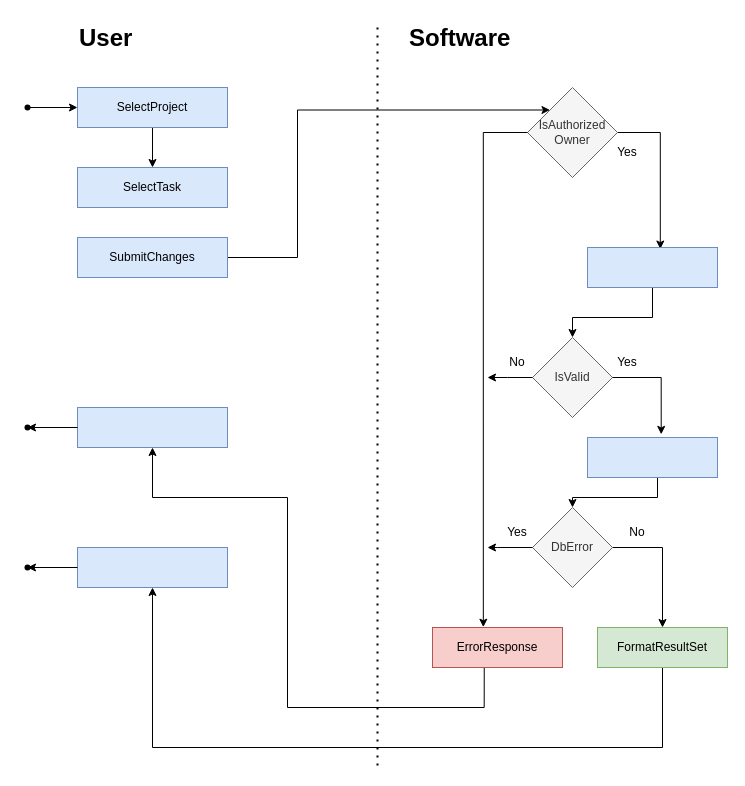
Some shapes in this 745 by 786 pixel diagram are drawn without their labels. The box of each missing label's shape, as (x1, y1, x2, y2) in pixels:
ErrorMessageView: (76, 406, 228, 448)
TaskView: (76, 546, 228, 588)
UpdateDatabase: (586, 436, 718, 478)
ValidationCheck: (586, 246, 718, 288)
